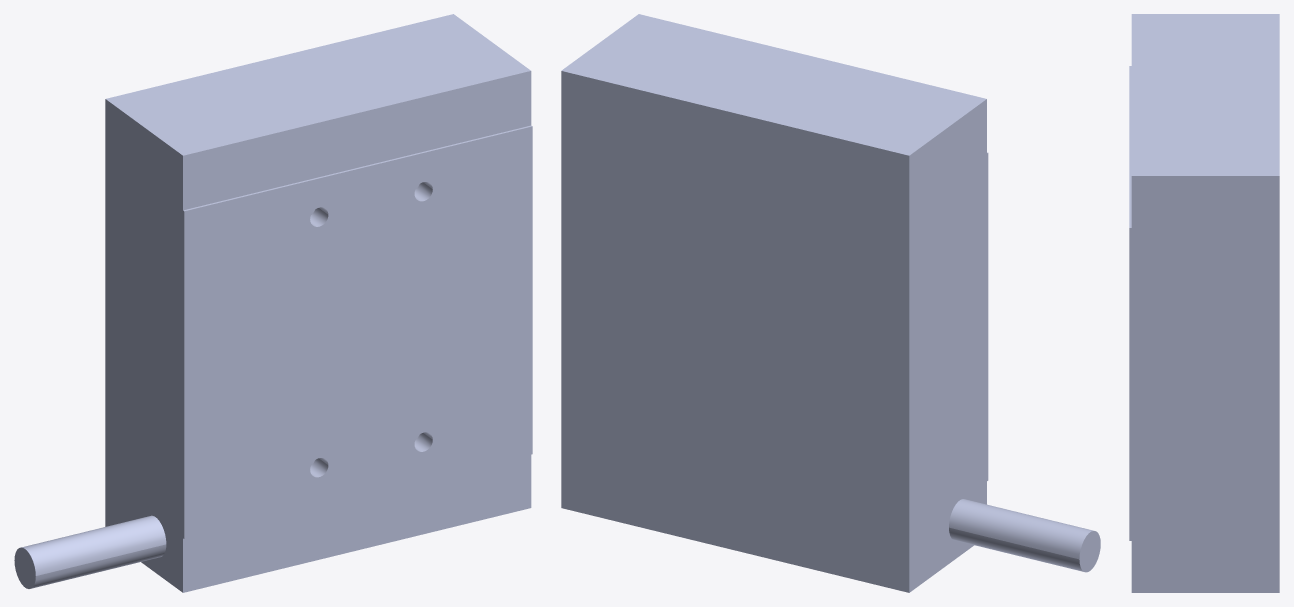
Rendered from MTK-3.glb.
The picture shows the model from 3 angles, left to right: view 1: azimuth 30°, elevation 25°; view 2: azimuth 150°, elevation 25°; view 3: azimuth 270°, elevation 25°; orthographic projection. The views are drawn at different scales.
Visible parts, largest first — view 1: MTK-3_node_1; view 2: MTK-3_node_1; view 3: MTK-3_node_1.
Part boxes in pixels (x1,y1,x2,y2): MTK-3_node_1: (14,14,532,592); MTK-3_node_1: (561,14,1100,592); MTK-3_node_1: (1129,14,1279,592).
Size of the model in its own units: 110 by 96 by 31.4.
